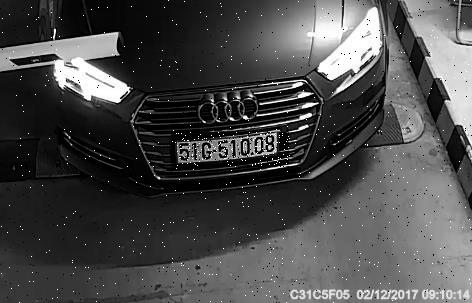License-plate: (173, 133, 292, 168)
